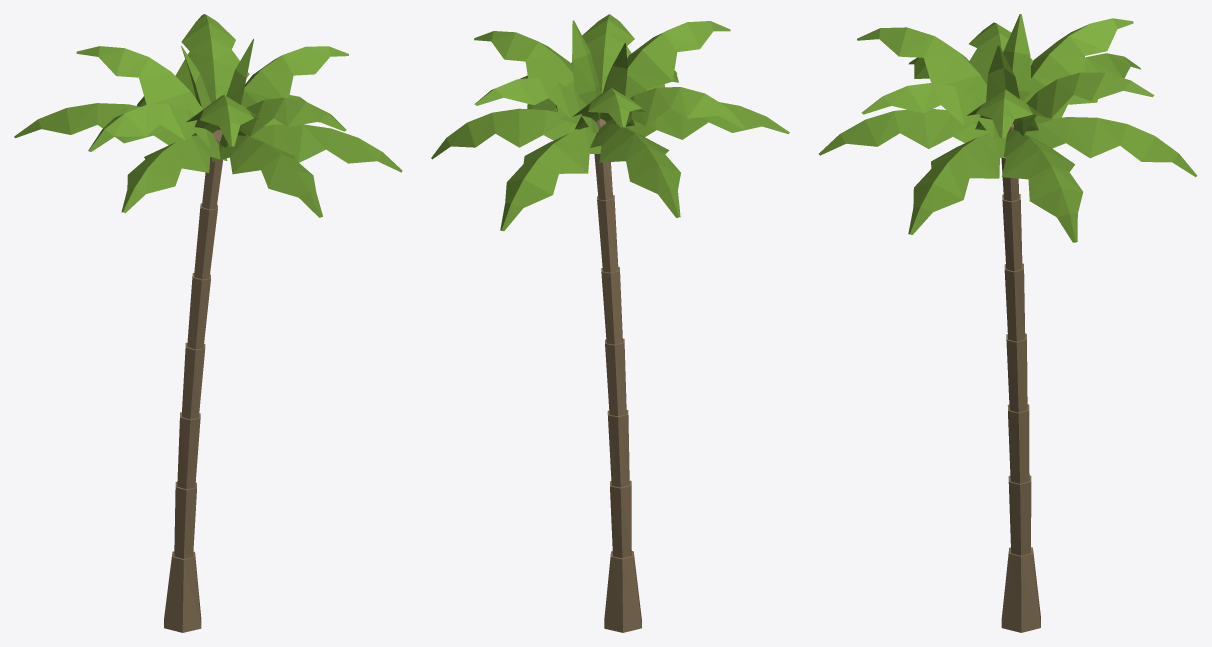
Rendered from palm_b.glb.
3 renders of one model, left to right at view 1: azimuth 30°, elevation 25°; view 2: azimuth 150°, elevation 25°; view 3: azimuth 270°, elevation 25°, orthographic. The views are drawn at different scales.
Parts seen in each view (by area): view 1: palm; view 2: palm; view 3: palm.
Part boxes in pixels (x1=…): palm: x1=14, y1=14, x2=402, y2=632; palm: x1=431, y1=14, x2=789, y2=632; palm: x1=819, y1=14, x2=1197, y2=632.
Bounding box in the file's own units: 6.29 × 12.42 × 7.01.
